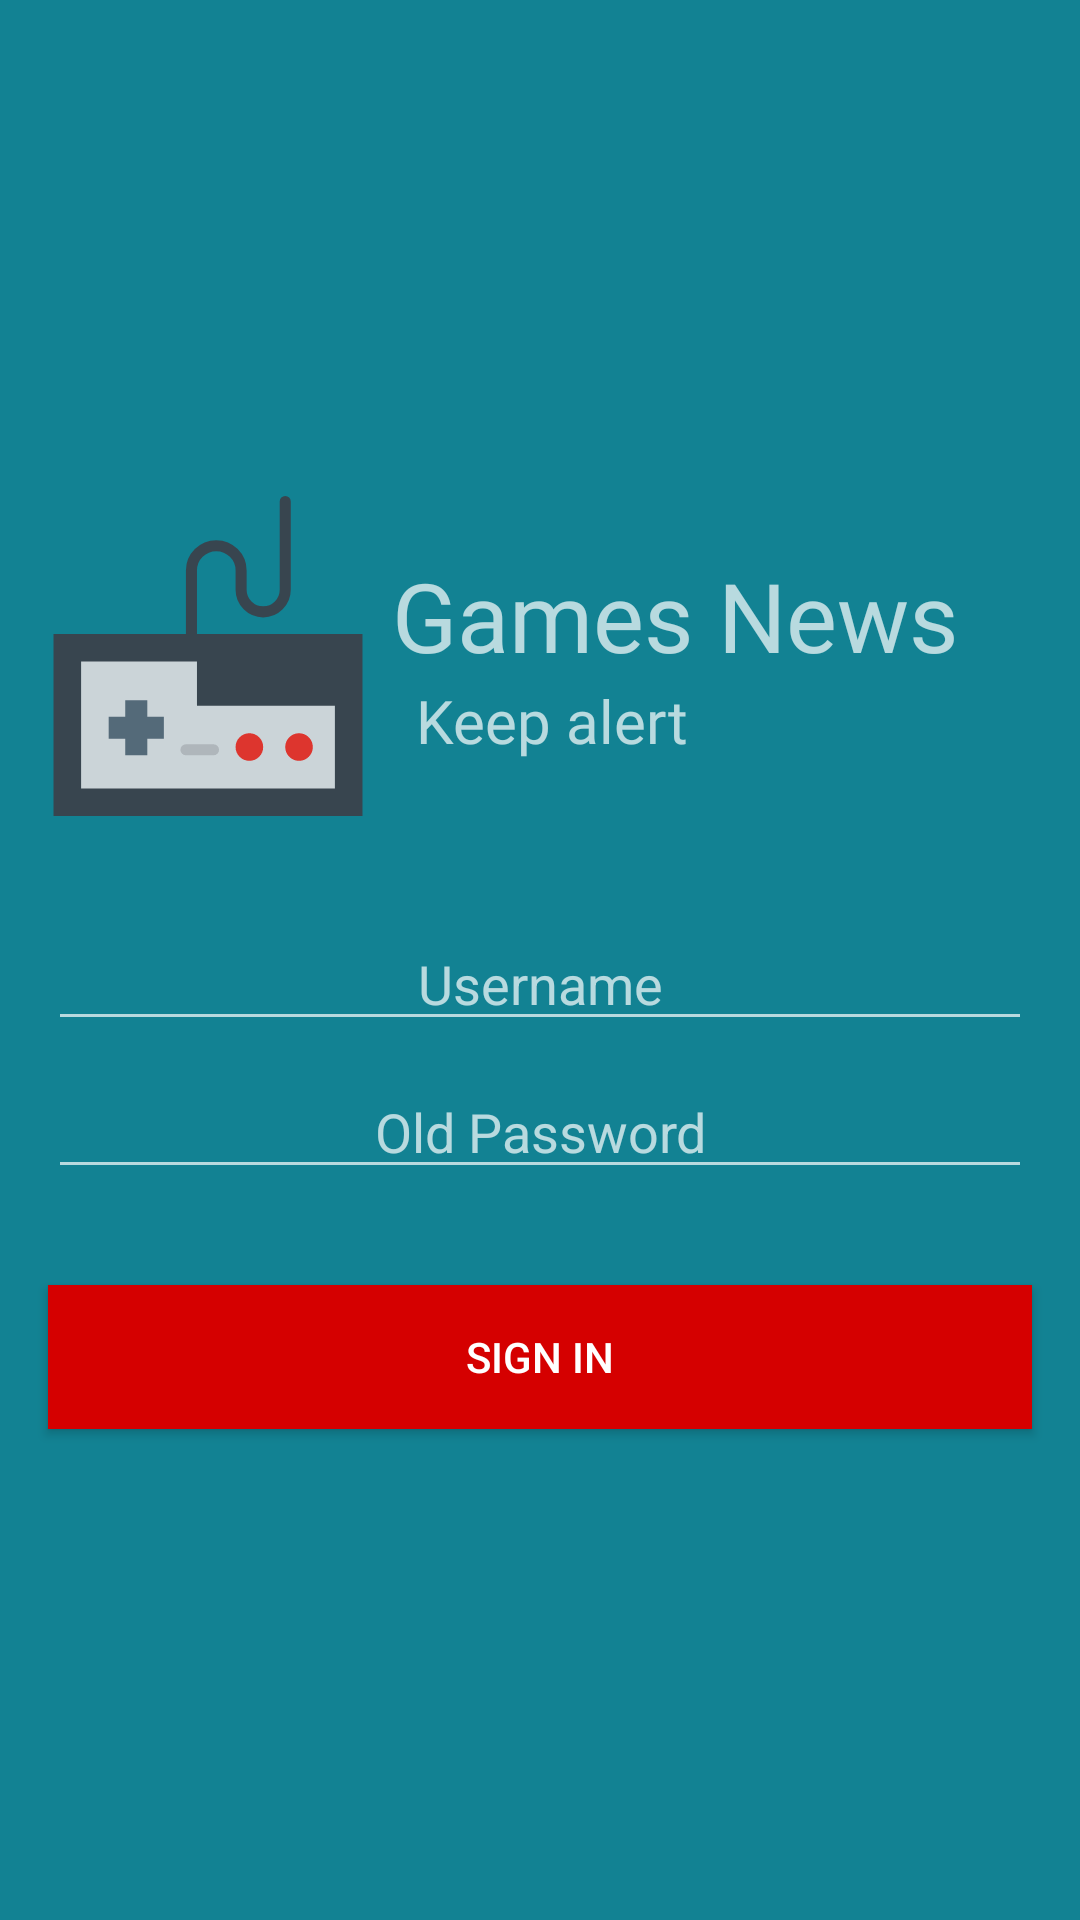

Icon bounding boxes for this 1080×1920 phone screenshot, format (x1, y1, x2, y2):
game controller: (53, 496, 363, 816)
